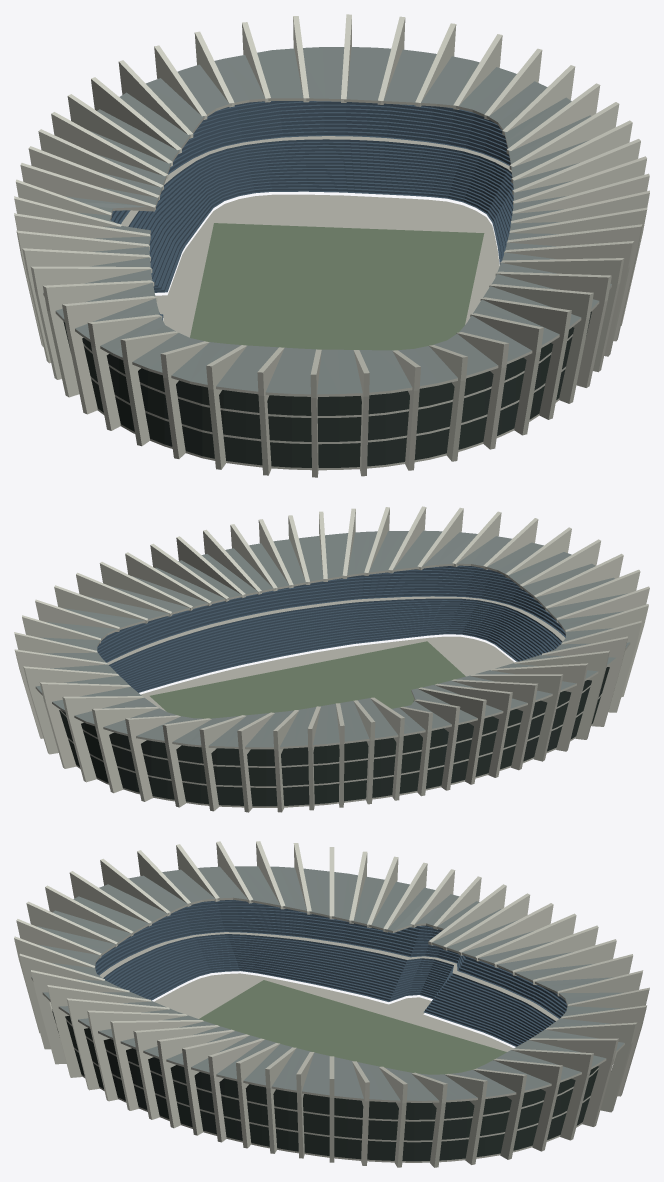
File: parc-des-princes-near.glb
The picture shows the model from 3 angles, top to bottom: view 1: azimuth 30°, elevation 25°; view 2: azimuth 150°, elevation 25°; view 3: azimuth 270°, elevation 25°; orthographic projection. The views are drawn at different scales.
Parts seen in each view (by area): view 1: parc-des-princes-0-rib, parc-des-princes-0-roof, parc-des-princes-0-seat, parc-des-princes-0-grass, parc-des-princes-0-glass, parc-des-princes-0-concrete; view 2: parc-des-princes-0-rib, parc-des-princes-0-seat, parc-des-princes-0-roof, parc-des-princes-0-glass, parc-des-princes-0-grass, parc-des-princes-0-concrete; view 3: parc-des-princes-0-rib, parc-des-princes-0-seat, parc-des-princes-0-roof, parc-des-princes-0-glass, parc-des-princes-0-grass, parc-des-princes-0-concrete.
Part boxes in pixels (box(x1,y1,x2,y2)): parc-des-princes-0-rib: box(14, 14, 649, 477); parc-des-princes-0-roof: box(43, 47, 611, 394); parc-des-princes-0-seat: box(110, 101, 513, 320); parc-des-princes-0-grass: box(190, 223, 484, 350); parc-des-princes-0-glass: box(63, 311, 591, 467); parc-des-princes-0-concrete: box(43, 98, 611, 470); parc-des-princes-0-rib: box(14, 506, 649, 812); parc-des-princes-0-seat: box(97, 565, 565, 692); parc-des-princes-0-roof: box(36, 530, 629, 747); parc-des-princes-0-glass: box(59, 667, 609, 806); parc-des-princes-0-grass: box(150, 641, 465, 718); parc-des-princes-0-concrete: box(35, 563, 630, 807); parc-des-princes-0-rib: box(14, 841, 649, 1167); parc-des-princes-0-seat: box(95, 899, 567, 1046); parc-des-princes-0-roof: box(31, 866, 624, 1100); parc-des-princes-0-glass: box(52, 1009, 598, 1161); parc-des-princes-0-grass: box(199, 980, 506, 1074); parc-des-princes-0-concrete: box(31, 897, 624, 1162).
Size of the model in its own units: 202 by 36 by 223.
